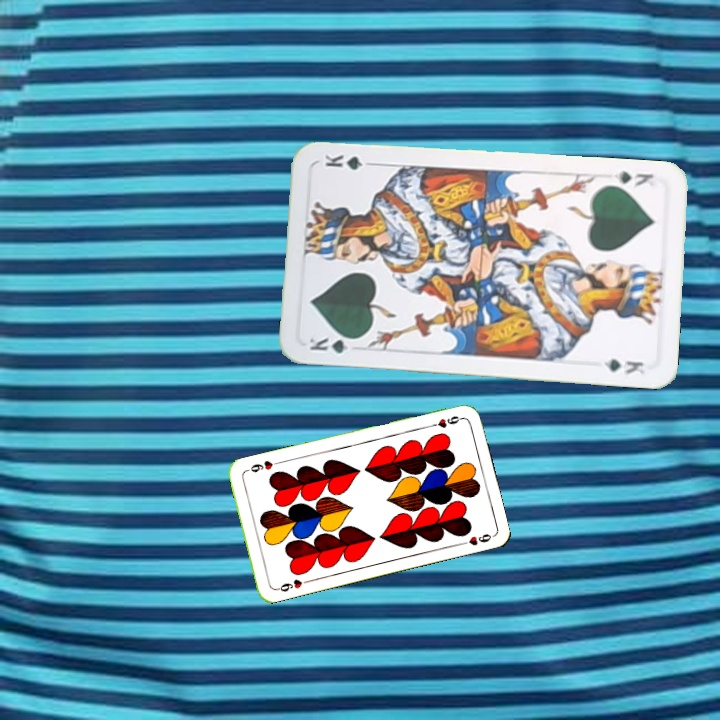GK: (305, 334, 363, 357), (610, 167, 656, 190)
H9: (271, 575, 311, 594), (425, 412, 465, 431)
